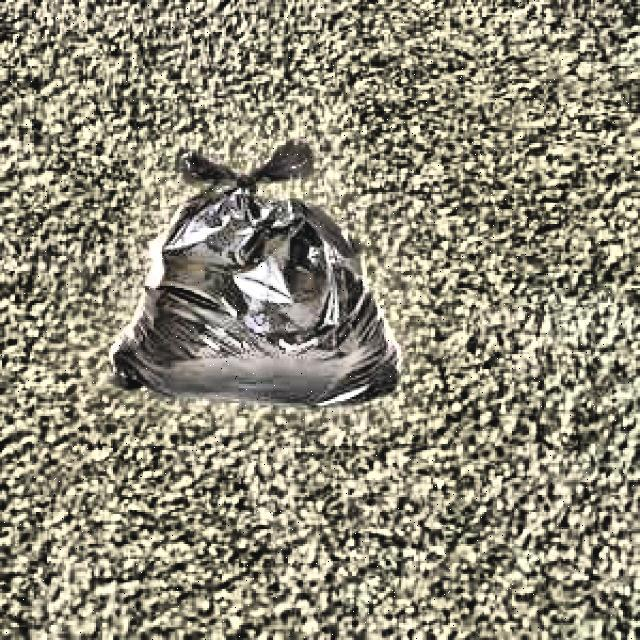Trashbag: (106, 136, 404, 410)
